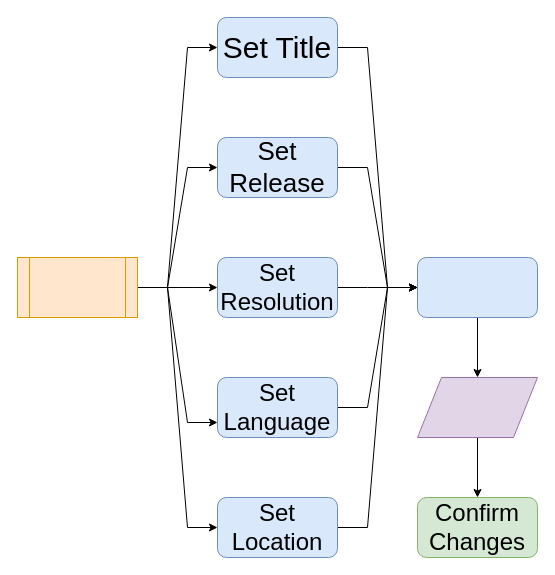
The diagram is 555 pixels wide and 575 high, and some of its shapes have lost their labels. The centre of each missing label's shape, as x and y in pixels:
Click Generate: the point at 477,287
Preview Changes: the point at 477,407
User: the point at 77,287
